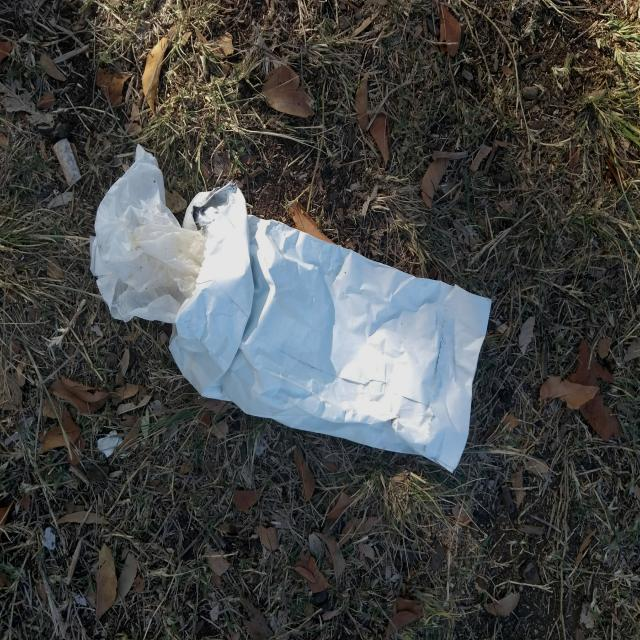Cigarette: (52, 138, 82, 185)
Other plastic: (168, 181, 492, 474)
Plastic film: (90, 144, 207, 323)
Unlabeled litter: (97, 430, 122, 458)
